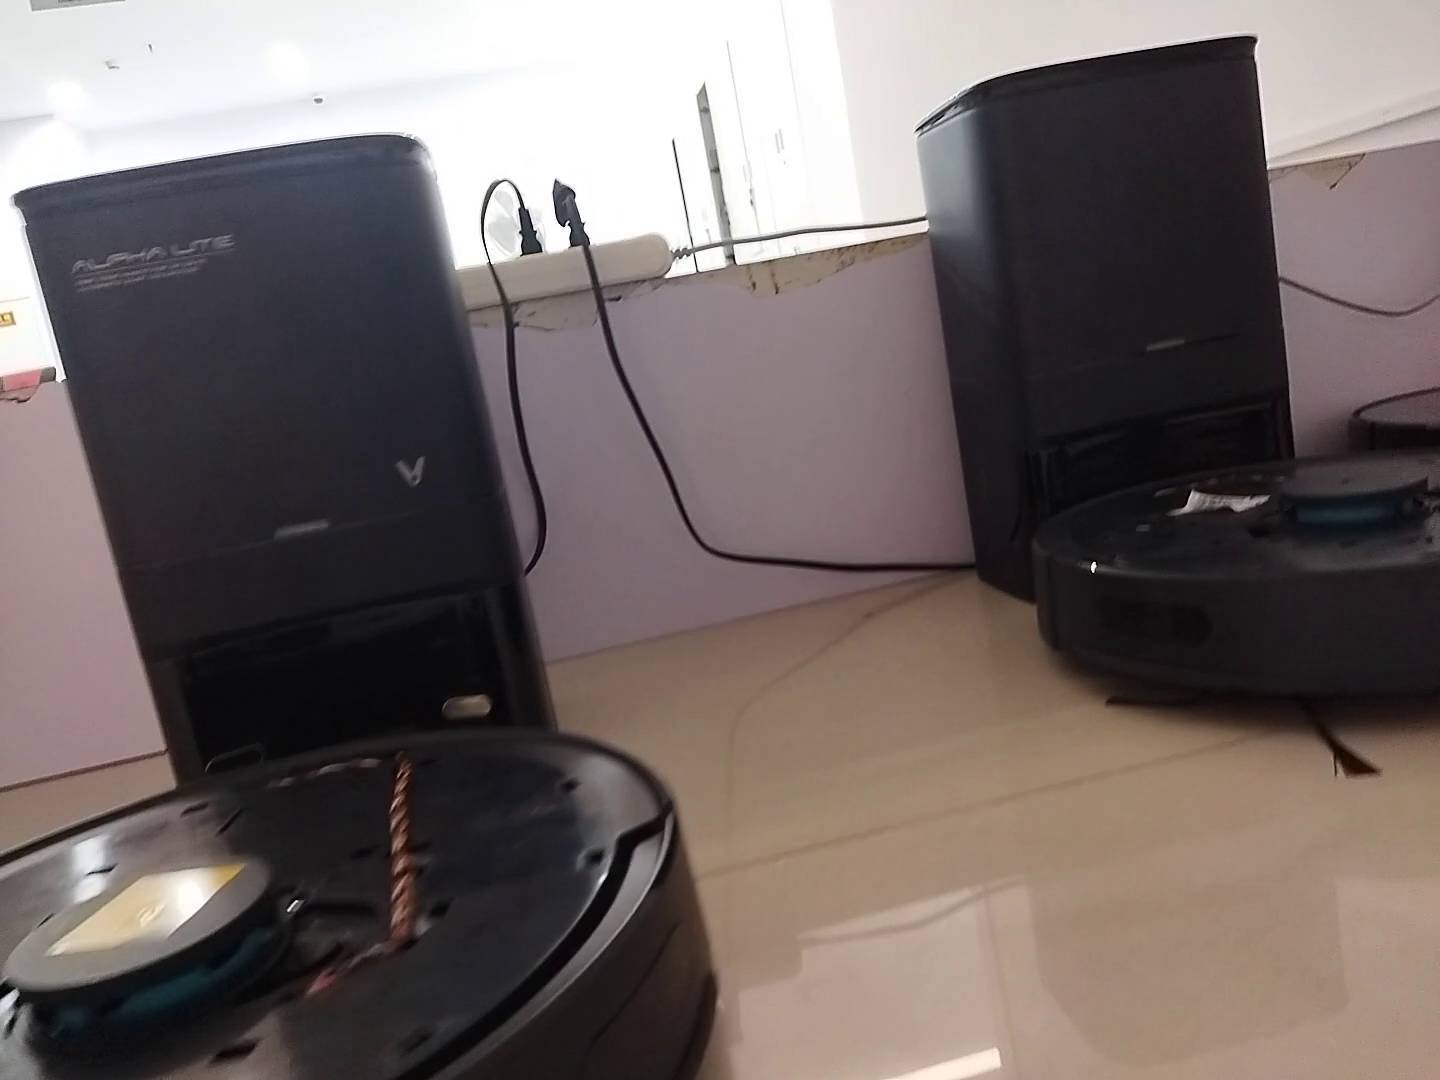dust collecting barrel: (15, 130, 562, 786), (917, 33, 1311, 600)
